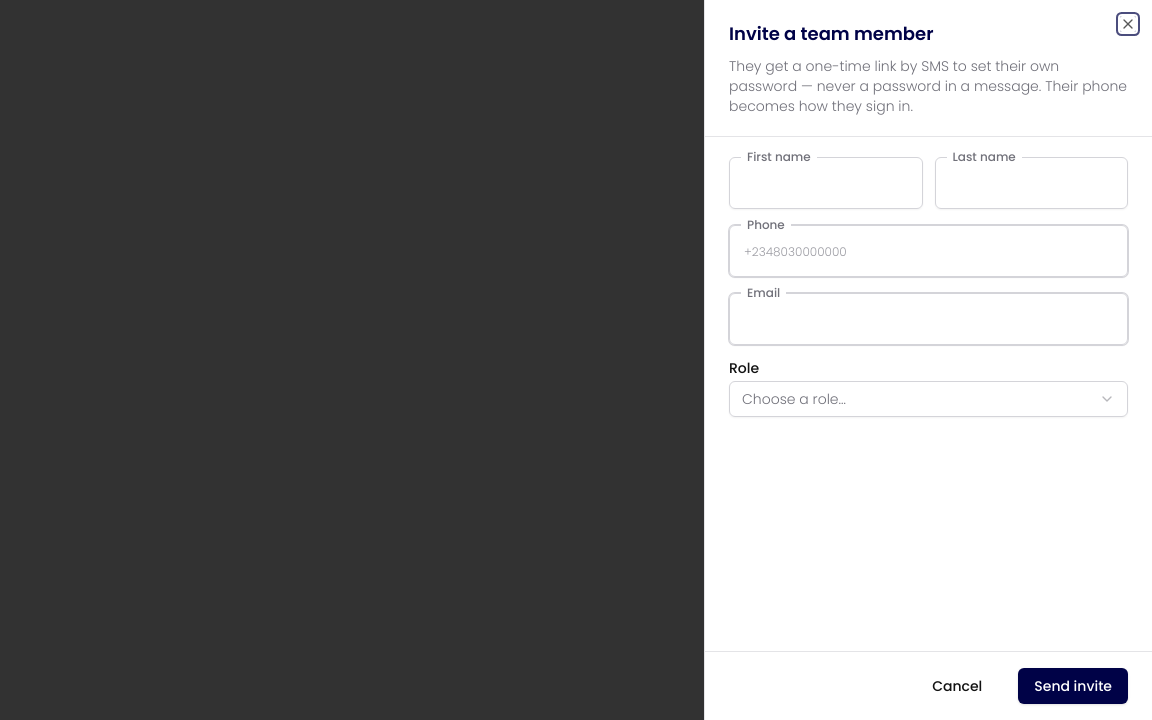
Test case: InviteMemberSheet › refuses to submit without a role
The image size is (1152, 720).
Step 1. Type "Bisi" into the field labelled "First name" → [826, 183], box left=729, top=157, right=922, bottom=209
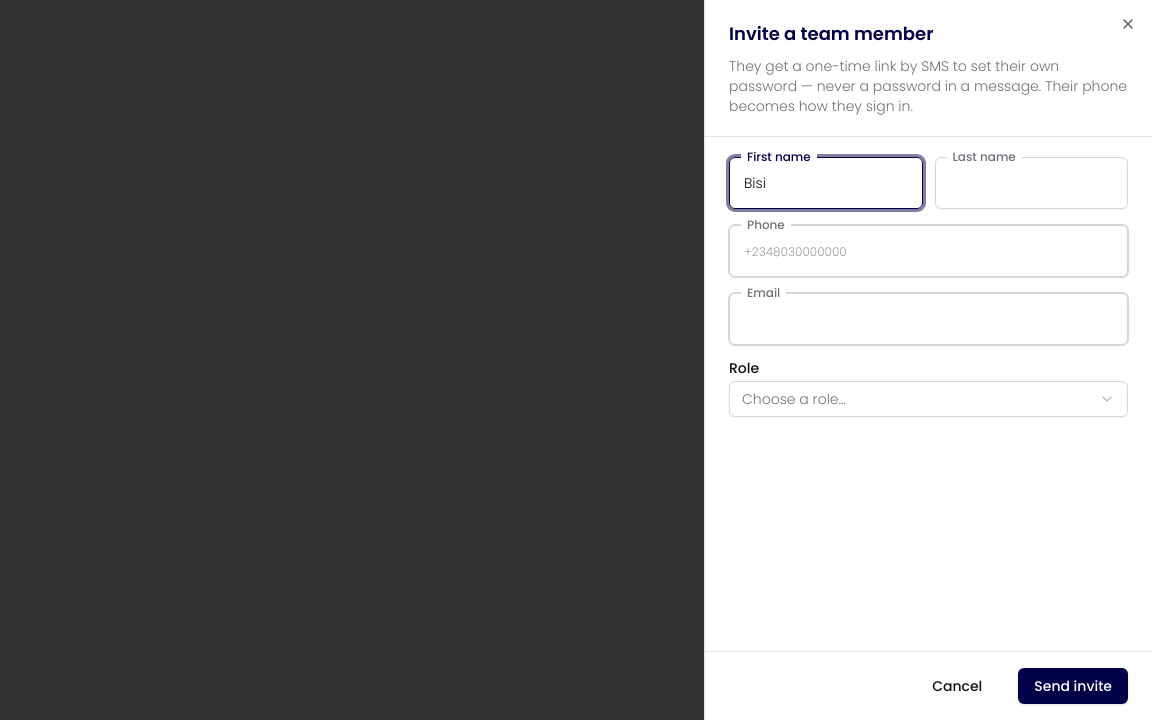
Step 2. Type "Adebayo" into the field labelled "Last name" → [1031, 183], box left=934, top=157, right=1128, bottom=209
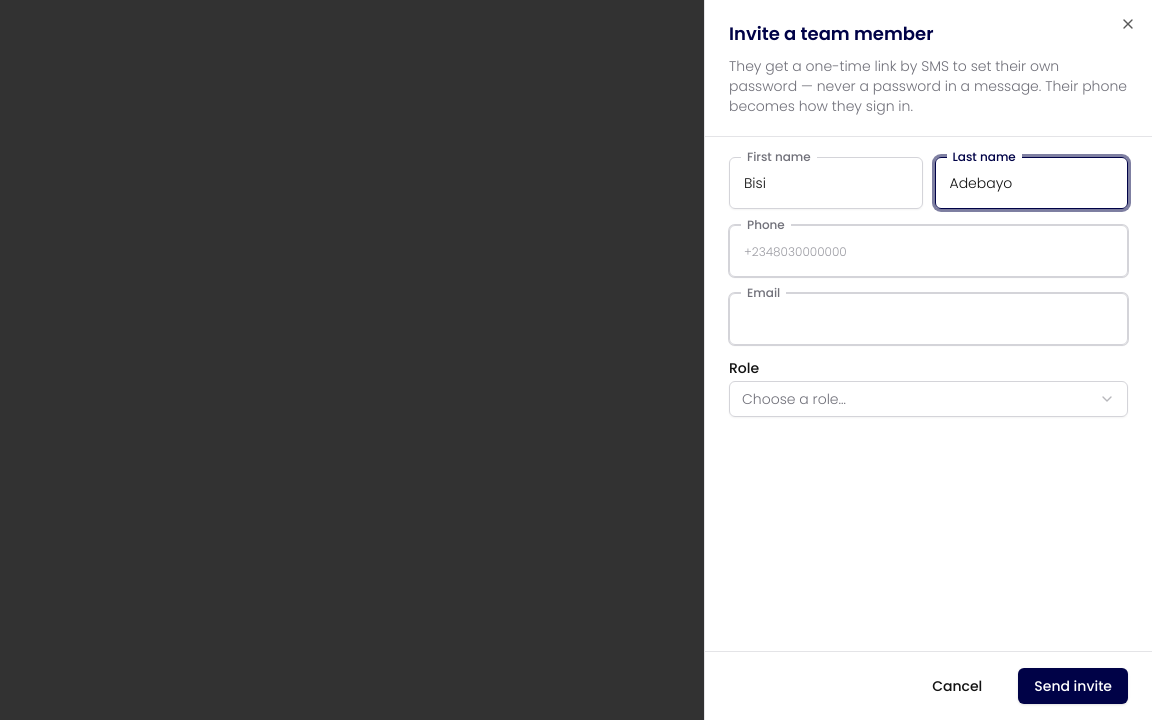
Step 3. Type "+2348077000001" into the field labelled "Phone" → [928, 251], box left=729, top=225, right=1128, bottom=277
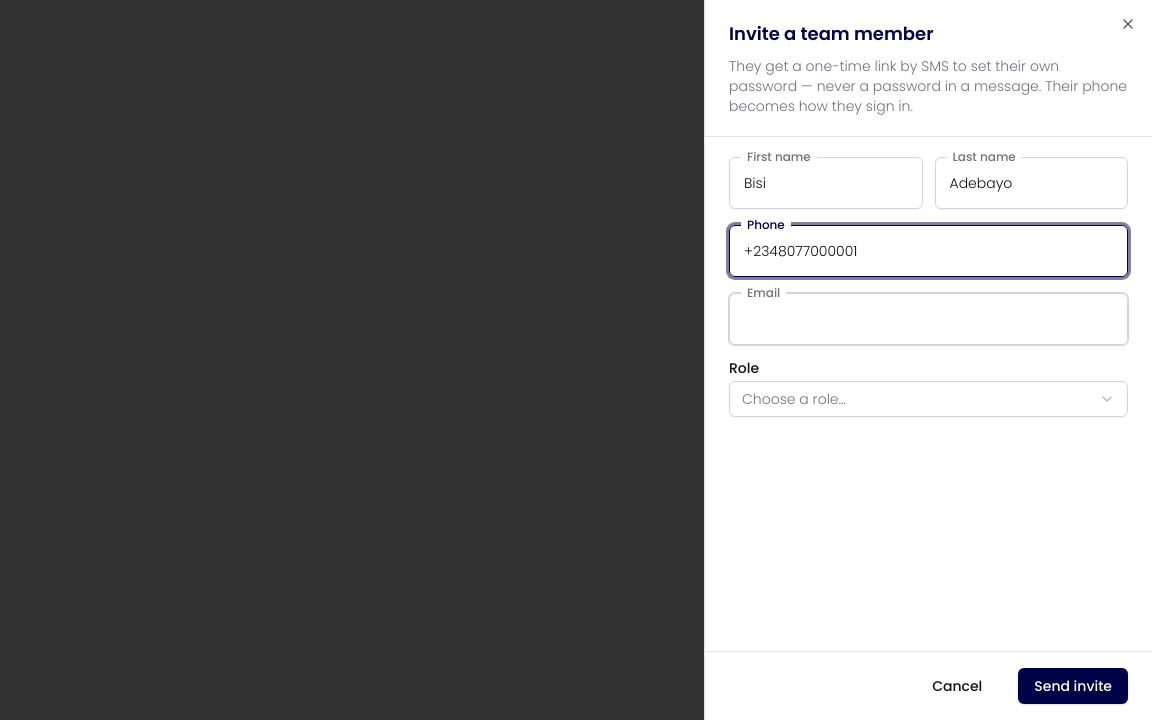
Step 4. Type "bisi@team.test" into the field labelled "Email" → [928, 319], box left=729, top=293, right=1128, bottom=345
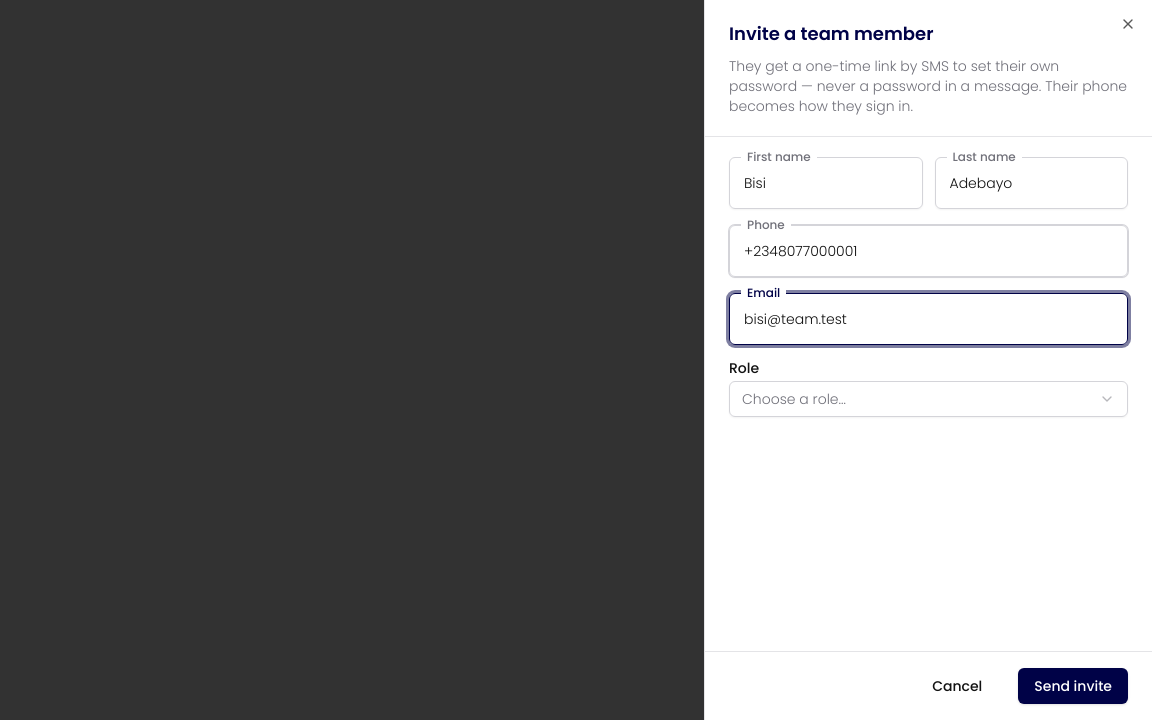
Step 5. Click the button "Send invite" → [1073, 686], box left=1018, top=668, right=1128, bottom=704
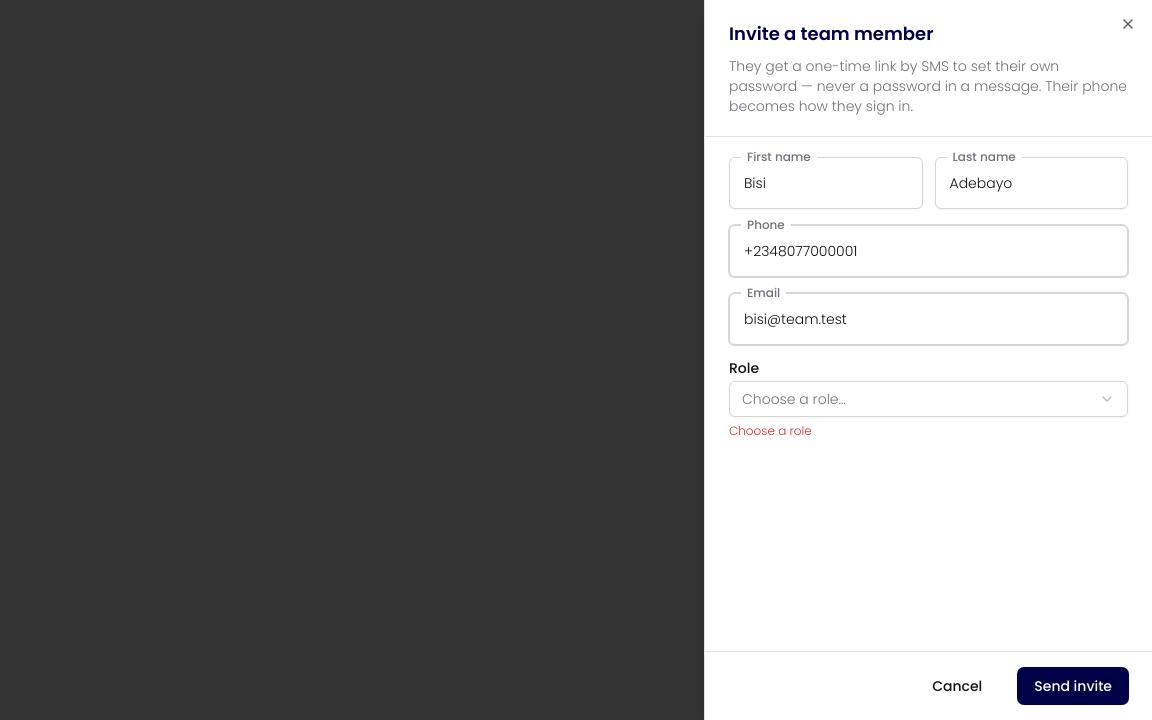
Result: the text "Choose a role" is shown at left=729, top=422, right=812, bottom=439
